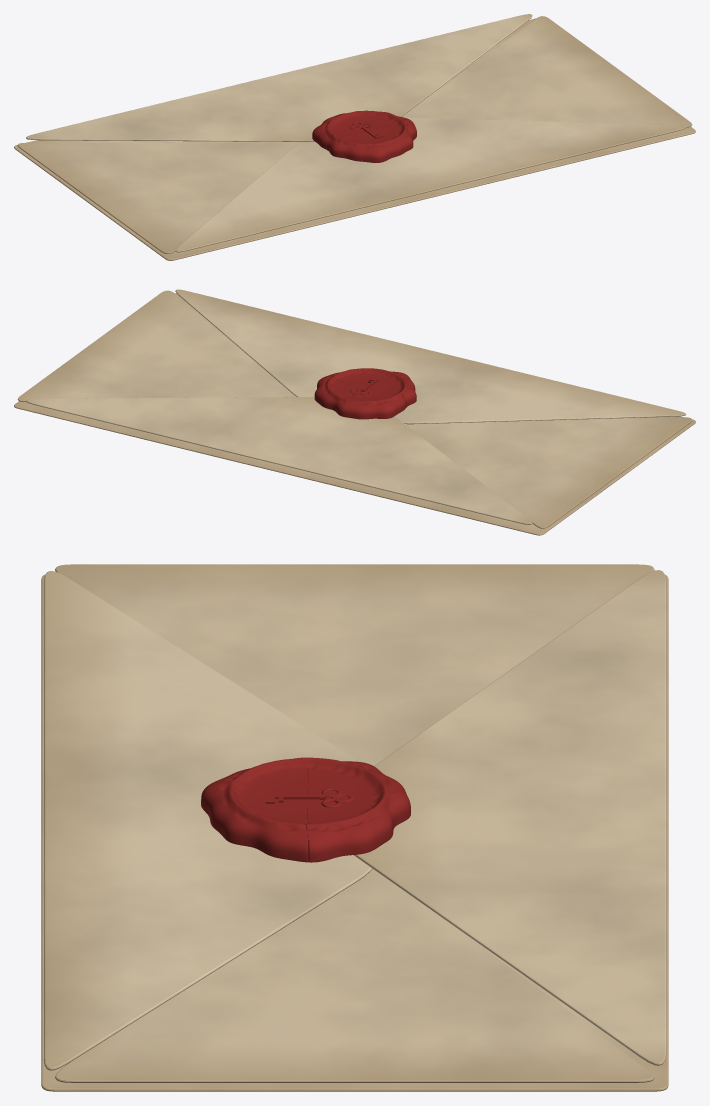
File: reward-envelope.glb
The picture shows the model from 3 angles, top to bottom: view 1: azimuth 30°, elevation 25°; view 2: azimuth 150°, elevation 25°; view 3: azimuth 270°, elevation 25°; orthographic projection. The views are drawn at different scales.
Parts seen in each view (by area): view 1: bottom flap, top flap, side flap, side flap.001, envelope body, wax.001, wax.002; view 2: top flap, bottom flap, side flap, side flap.001, envelope body, wax.002, wax.001; view 3: top flap, bottom flap, side flap.001, side flap, envelope body, wax.001, wax.002.
Part boxes in pixels (left/top/right/bottom): bottom flap: left=175, top=117, right=686, bottom=252; top flap: left=26, top=14, right=532, bottom=141; side flap: left=17, top=142, right=300, bottom=253; side flap.001: left=402, top=16, right=692, bottom=127; envelope body: left=14, top=18, right=695, bottom=260; wax.001: left=326, top=119, right=416, bottom=162; wax.002: left=312, top=110, right=410, bottom=149; top flap: left=26, top=397, right=532, bottom=524; bottom flap: left=175, top=289, right=686, bottom=424; side flap: left=404, top=417, right=692, bottom=528; side flap.001: left=17, top=290, right=295, bottom=401; envelope body: left=14, top=293, right=695, bottom=535; wax.002: left=314, top=376, right=406, bottom=419; wax.001: left=324, top=368, right=416, bottom=406; top flap: left=354, top=570, right=666, bottom=1065; bottom flap: left=44, top=571, right=372, bottom=1070; side flap.001: left=55, top=869, right=654, bottom=1082; side flap: left=55, top=564, right=654, bottom=765; envelope body: left=41, top=574, right=668, bottom=1091; wax.001: left=201, top=757, right=310, bottom=862; wax.002: left=305, top=757, right=410, bottom=862.
Size of the model in its own units: 2.3 by 0.0902 by 1.18.
Materials: 5 (5 with a texture image).
